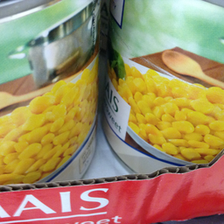corn: (103, 1, 224, 173), (1, 1, 98, 188)
